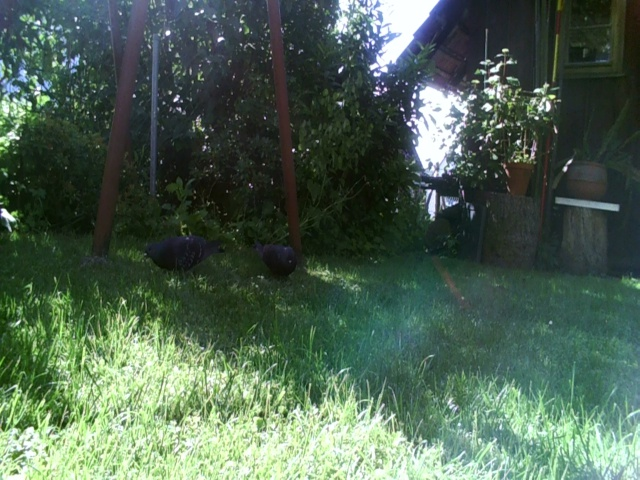Pigeon: (141, 235, 226, 279), (251, 238, 296, 279)
